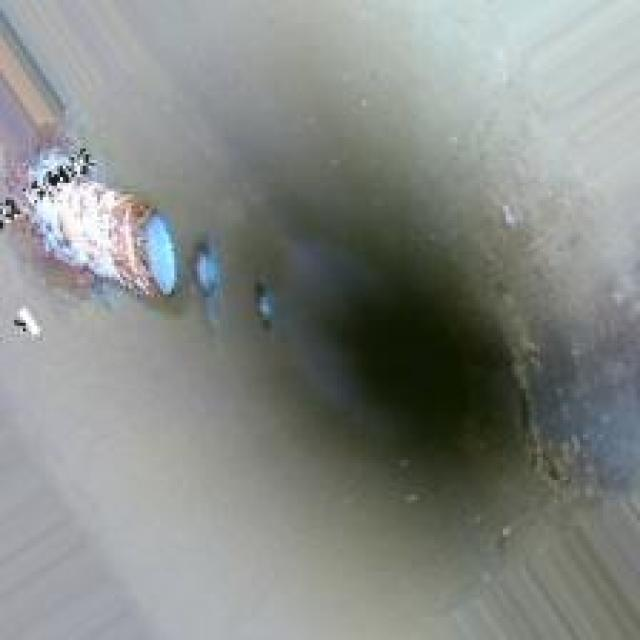ferrule: (23, 143, 174, 320), (188, 232, 223, 297), (249, 277, 280, 326)
